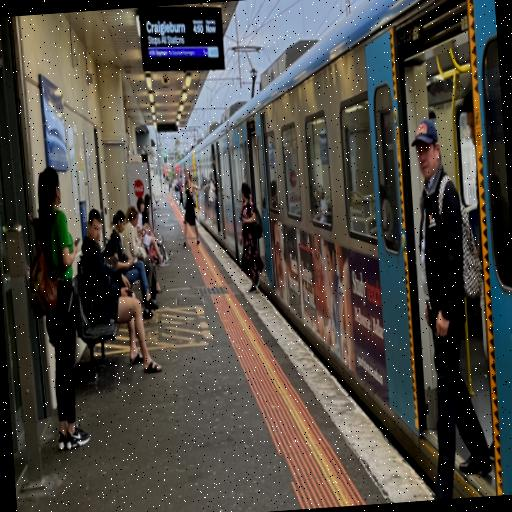platform_edge: (169, 203, 440, 508)
signage: (139, 2, 228, 78)
